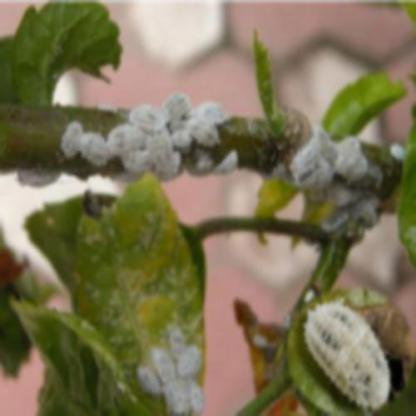mealy bug: (303, 300, 394, 413), (108, 125, 144, 154), (132, 104, 167, 130), (152, 345, 175, 382), (80, 136, 108, 164), (61, 123, 82, 158), (197, 102, 229, 124), (178, 346, 201, 376), (166, 94, 190, 118)
